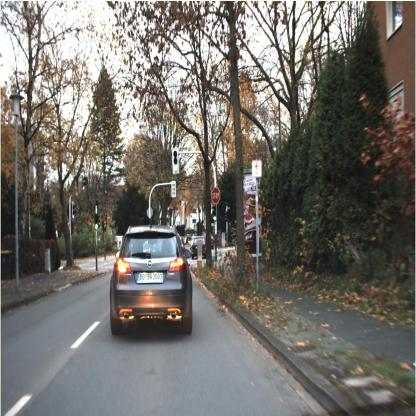other: (209, 182, 223, 210)
